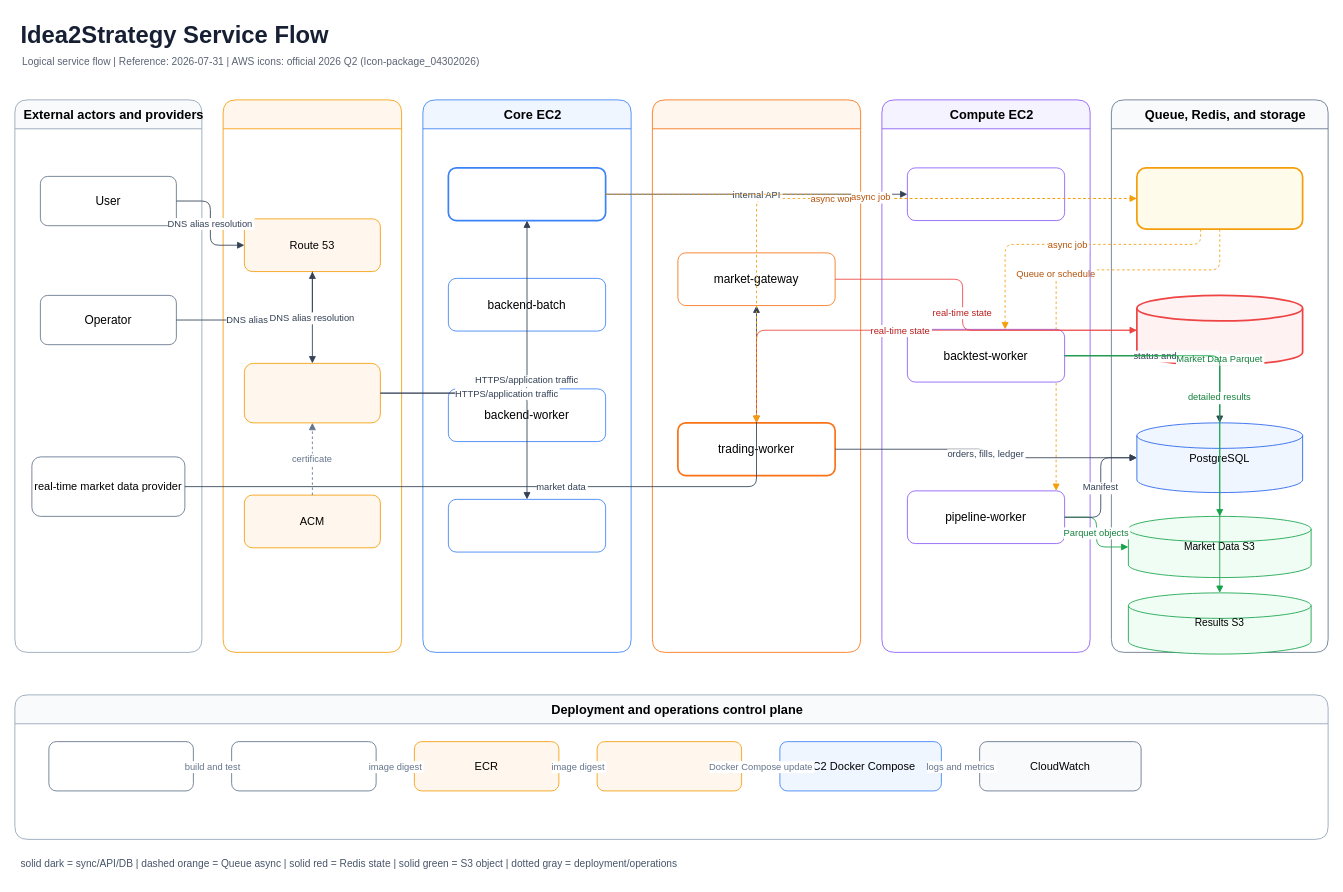
Some shapes in this 1343 by 892 pixel diagram are drawn without their labels. Each missing label, with the box of its shape:
admin-mcp: (448, 499, 606, 552)
ALB: (244, 363, 380, 423)
backend-api: (447, 167, 606, 221)
backtest-api: (907, 167, 1065, 221)
DNS and entry: (222, 99, 402, 652)
GitHub Actions: (231, 741, 376, 791)
GitHub External: (48, 741, 193, 791)
Queue: (1136, 167, 1303, 230)
Redis: (1136, 294, 1303, 366)
Systems Manager: (596, 741, 742, 791)
Trading EC2: (652, 99, 861, 652)
